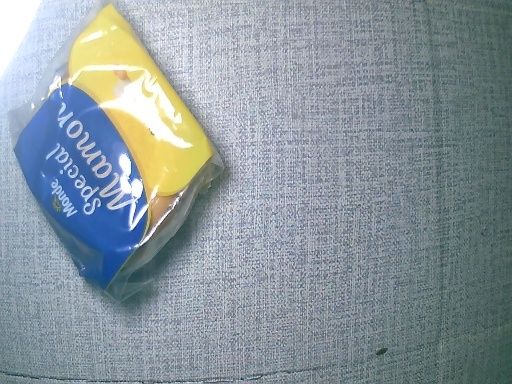plastic: (9, 11, 234, 303)
